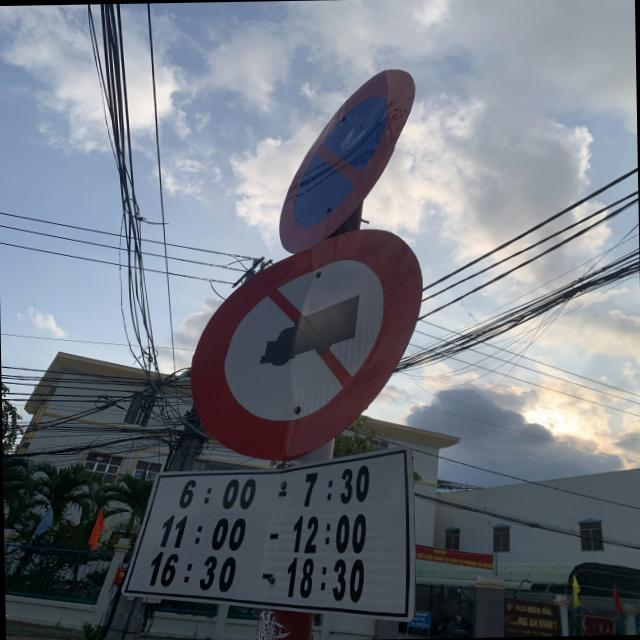Cam_Dau_Xe: (274, 69, 420, 252)
Cam_Xe_Tai: (186, 227, 426, 463)
